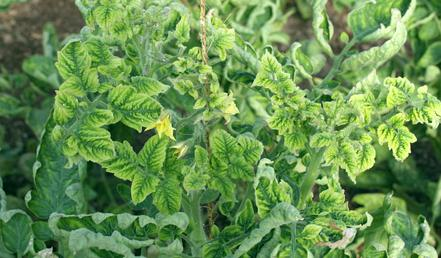Tomato leaf yellow virus: (40, 41, 97, 100), (378, 74, 441, 126), (99, 81, 163, 132), (242, 55, 303, 104), (335, 117, 375, 185), (71, 123, 123, 167), (373, 112, 418, 162), (219, 137, 263, 181), (136, 125, 166, 183), (151, 168, 180, 218), (210, 123, 240, 170), (252, 174, 288, 212), (128, 173, 157, 214), (270, 102, 295, 136)
